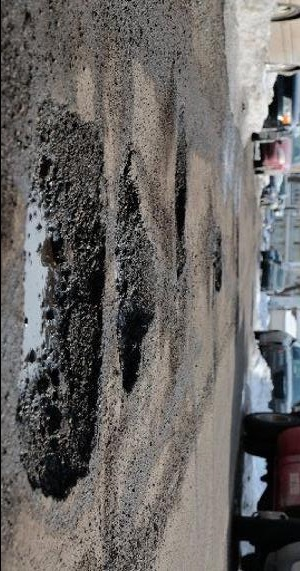pothole: (15, 98, 109, 506), (112, 145, 159, 397), (174, 106, 190, 280), (212, 231, 226, 293)
